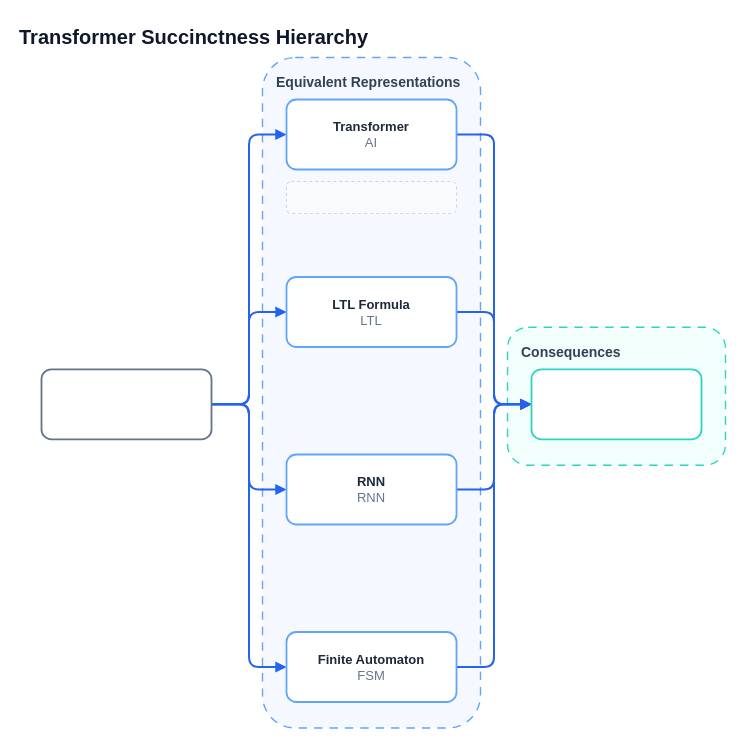
The diagram is 743 pixels wide and 746 high, and some of its shapes have lost their labels. The shapes that lost their labels are listed below. From the top down, each one's centre as x and y in pixels, then its label:
At pixel 371 197: "exponentially more succinct".
At pixel 126 404: "Language Family SET".
At pixel 616 404: "Verification Problem VERIFY".
